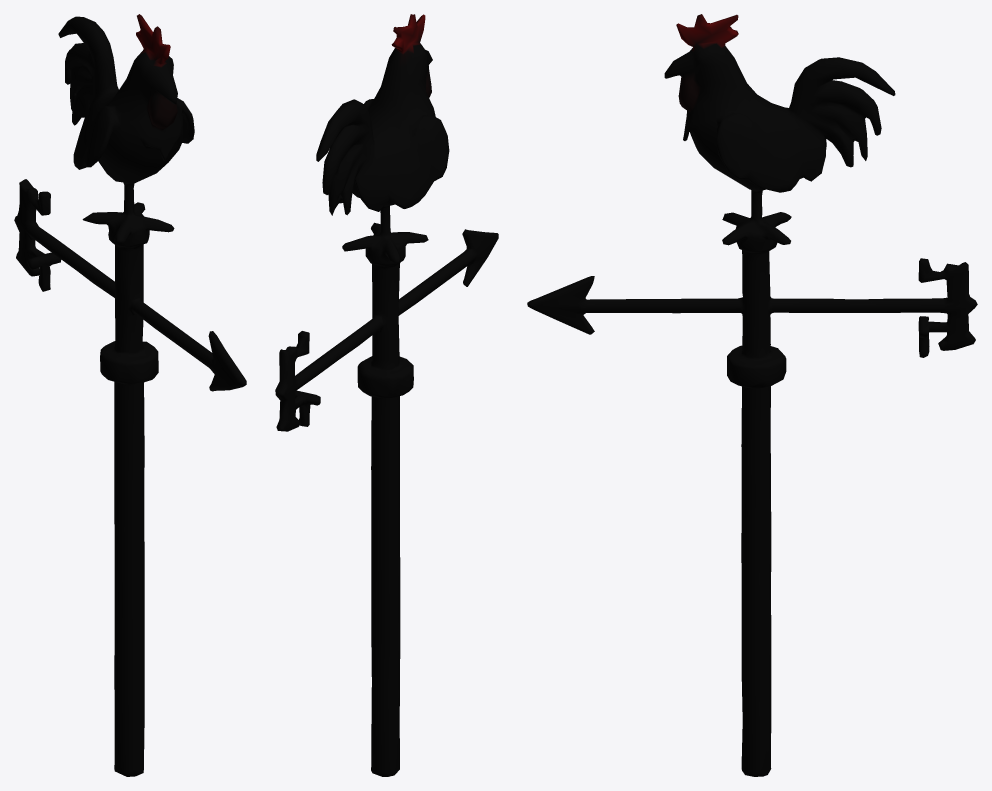
Rendered from gen3d-weather-vane-lod0.glb.
The picture shows the model from 3 angles, left to right: view 1: azimuth 30°, elevation 25°; view 2: azimuth 150°, elevation 25°; view 3: azimuth 270°, elevation 25°; orthographic projection. The views are drawn at different scales.
Parts seen in each view (by area): view 1: part_0; view 2: part_0; view 3: part_0.
Boxes of the visible parts, x1,y1,x2,y2 form: part_0: (14,14,246,776); part_0: (275,14,498,776); part_0: (527,14,977,776).
Bounding box in the file's own units: 0.1397 × 0.9993 × 0.5386.
